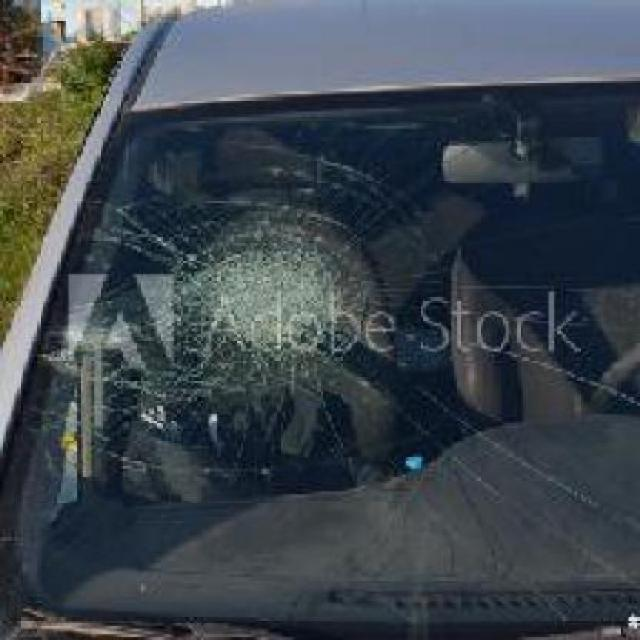damaged-windscreen: (12, 105, 638, 638)
